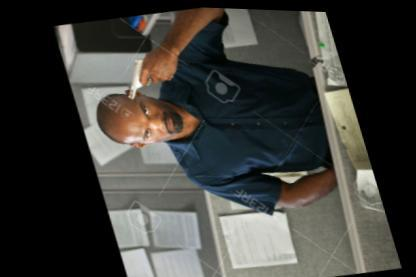pistol: (109, 46, 183, 104)
